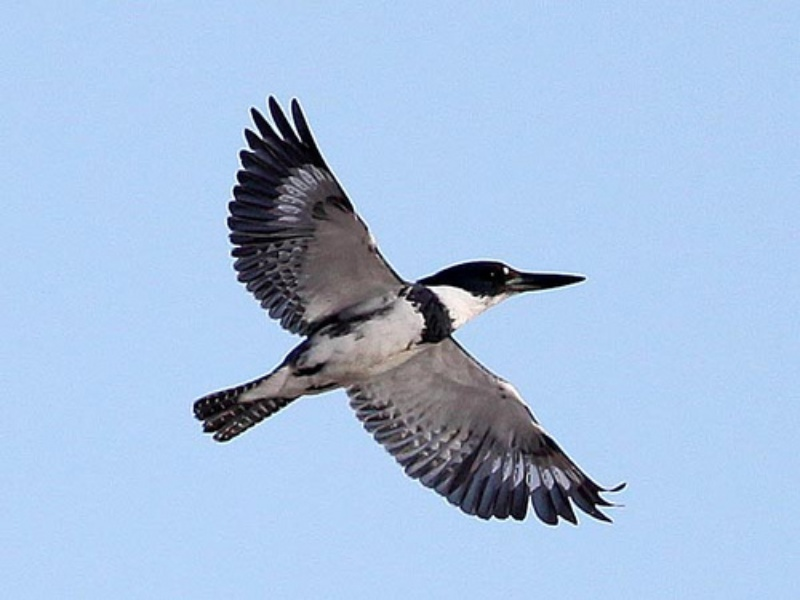kingfisher: (190, 87, 631, 542)
